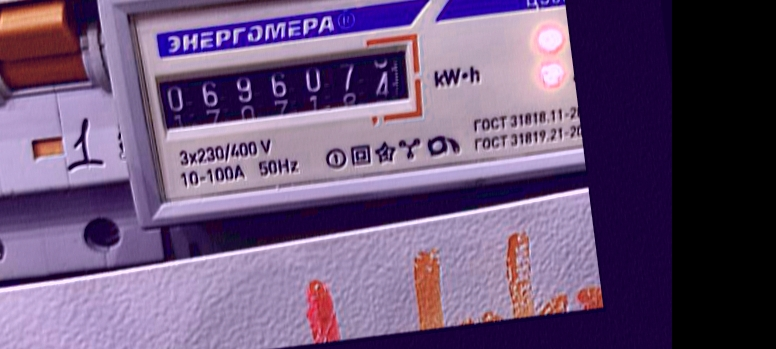0: (301, 62, 323, 94), (163, 83, 185, 113)
4: (371, 69, 390, 99)
6: (266, 69, 289, 100), (198, 77, 220, 107)
7: (337, 60, 357, 92)
9: (233, 74, 253, 104)
screen: (138, 25, 432, 149)
